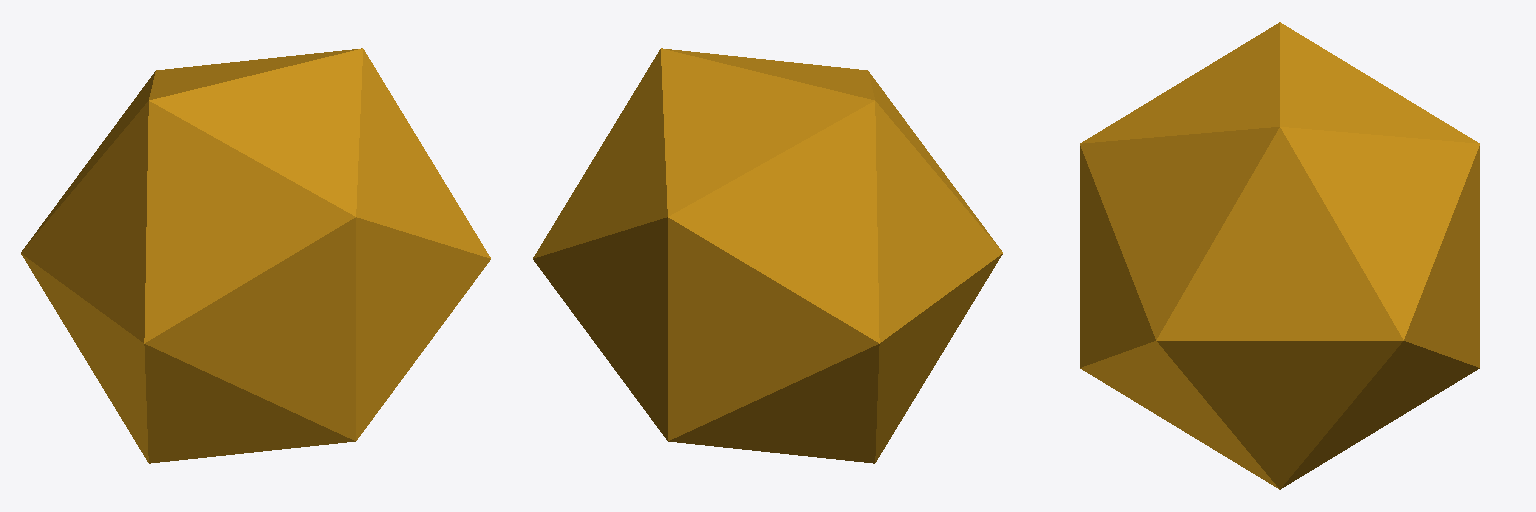
Rendered from LowSphere.obj.
3 views of the same model, side by side, from view 1: azimuth 30°, elevation 25°; view 2: azimuth 150°, elevation 25°; view 3: azimuth 270°, elevation 25° (orthographic).
Parts seen in each view (by area): view 1: LowSphere; view 2: LowSphere; view 3: LowSphere.
Part boxes in pixels (left/top/right/bottom): LowSphere: left=21, top=48, right=490, bottom=463; LowSphere: left=533, top=48, right=1002, bottom=463; LowSphere: left=1080, top=22, right=1479, bottom=489.
Size of the model in its own units: 1.7 by 1.7 by 1.7.